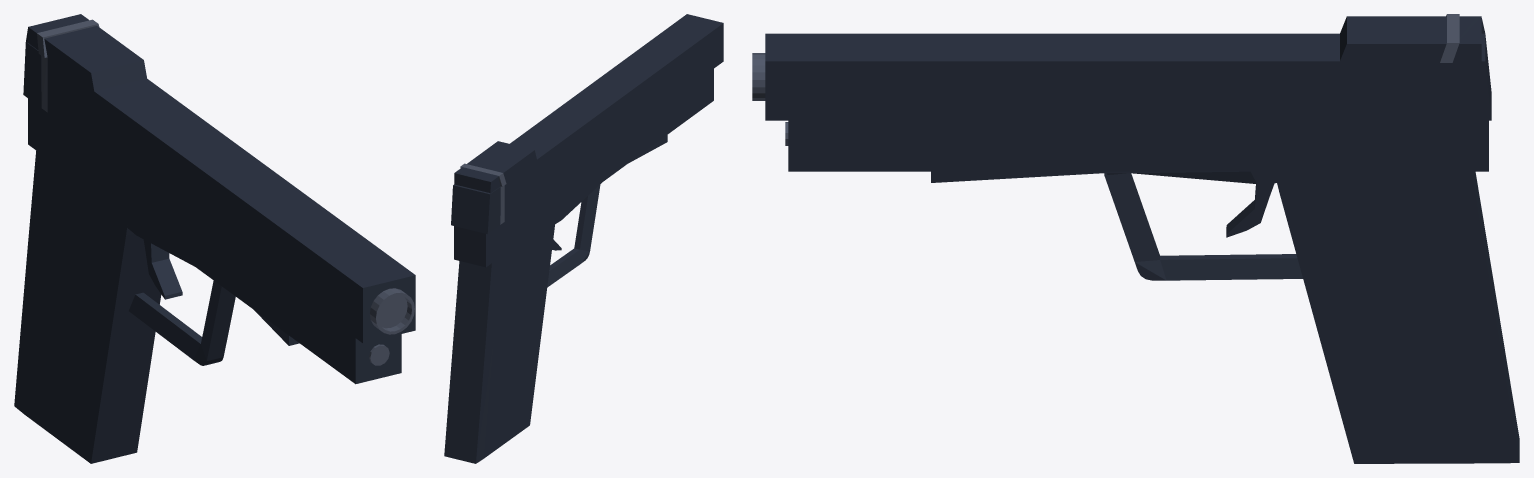
File: gun_model.fbx
3 views of the same model, side by side, from view 1: azimuth 30°, elevation 25°; view 2: azimuth 150°, elevation 25°; view 3: azimuth 270°, elevation 25° (orthographic). The views are drawn at different scales.
Parts seen in each view (by area): view 1: pCylinder3; view 2: pCylinder3; view 3: pCylinder3.
Boxes of the visible parts, x1,y1,x2,y2 form: pCylinder3: [14, 14, 415, 463]; pCylinder3: [444, 14, 723, 463]; pCylinder3: [752, 14, 1519, 463].
Size of the model in its own units: 1.11 by 7.16 by 11.75.
